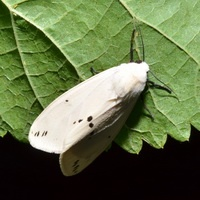insect: (28, 28, 148, 175)
